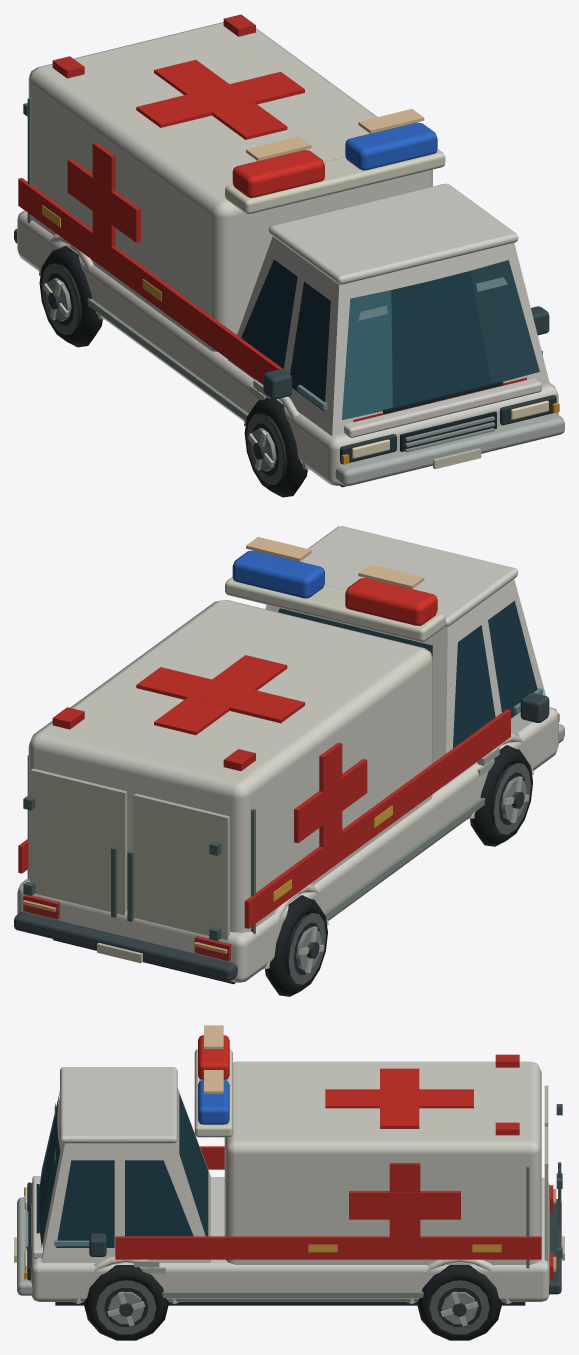
The model's file is ambulance.glb.
The picture shows the model from 3 angles, top to bottom: view 1: azimuth 30°, elevation 25°; view 2: azimuth 150°, elevation 25°; view 3: azimuth 270°, elevation 25°; orthographic projection. The views are drawn at different scales.
Parts seen in each view (by area): view 1: ambulance_body; view 2: ambulance_body; view 3: ambulance_body.
Part boxes in pixels (x1,y1,x2,y2): ambulance_body: [14, 14, 564, 497]; ambulance_body: [14, 526, 564, 996]; ambulance_body: [14, 1025, 564, 1340].
Size of the model in its own units: 2.39 by 2.4 by 5.04.
